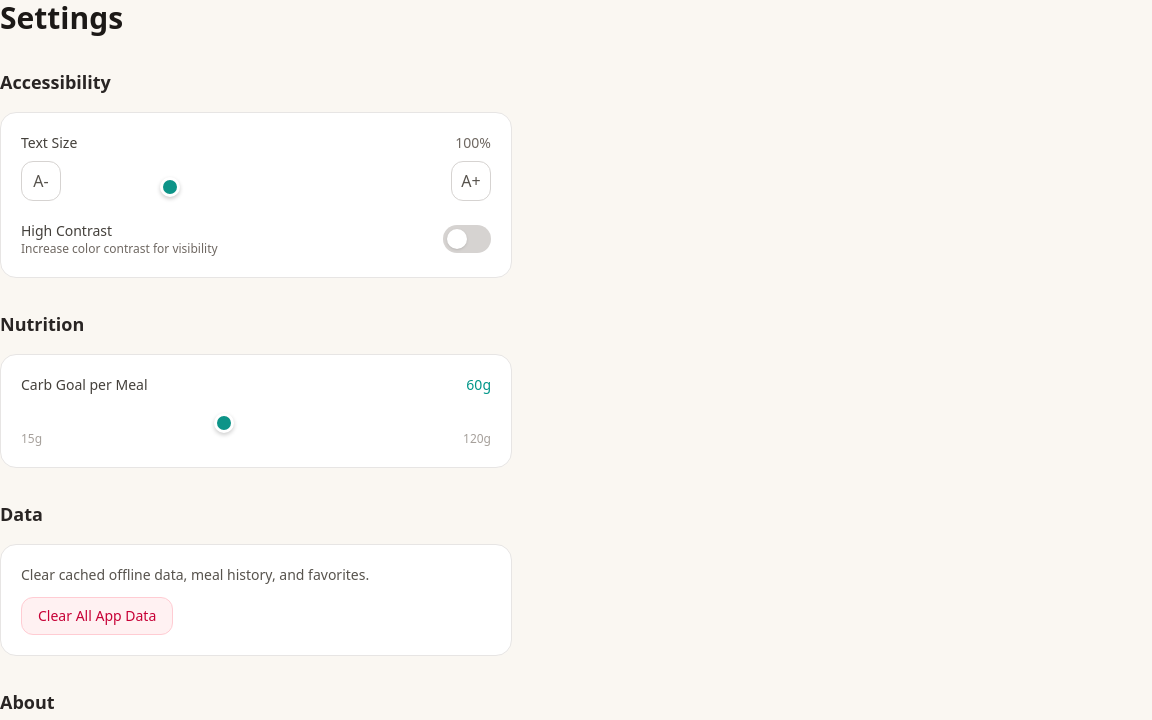
Test: Settings › clears saved local app data only after confirmation
Click the button "Clear All App Data".
click(97, 616)  # box [21,597,173,635]
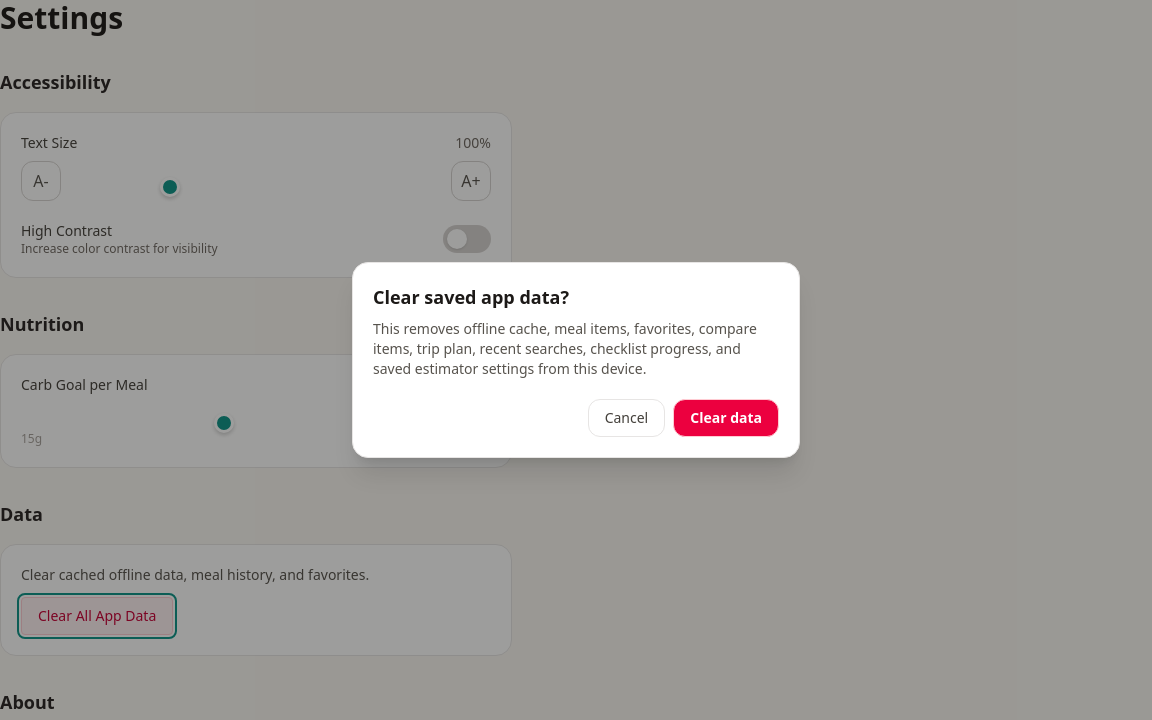
Click the button "Clear data".
click(726, 418)  # box [673,399,779,437]
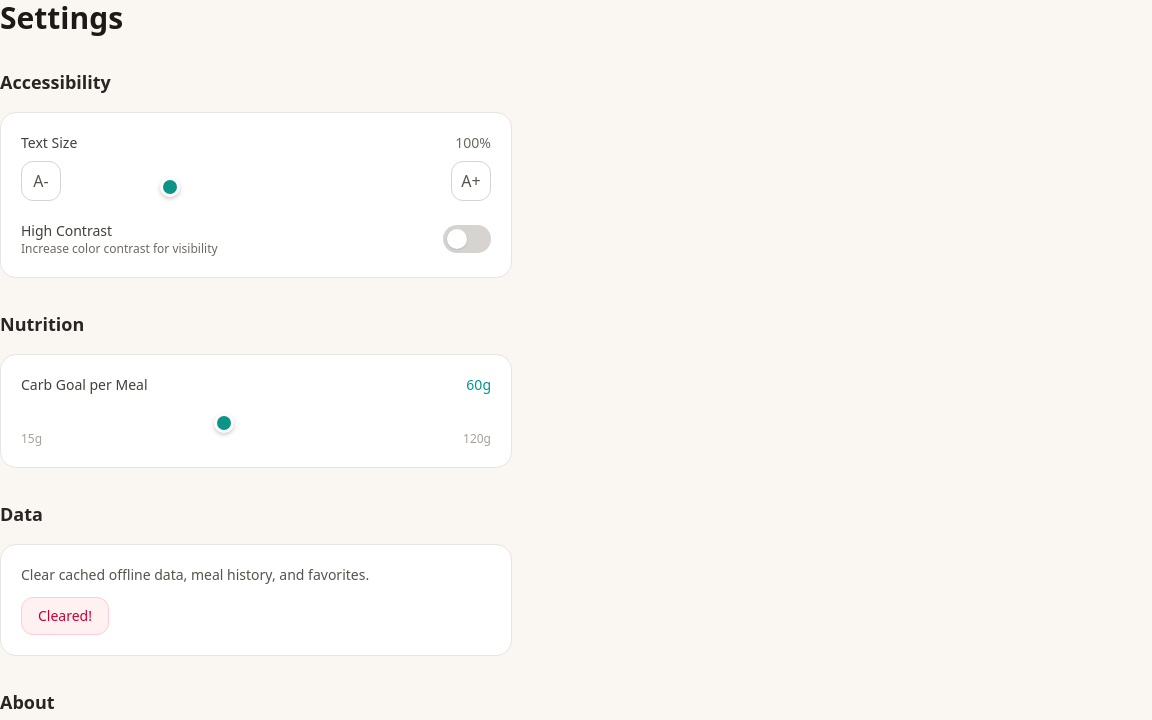
Result: the heading "Clear saved app data" is gone
